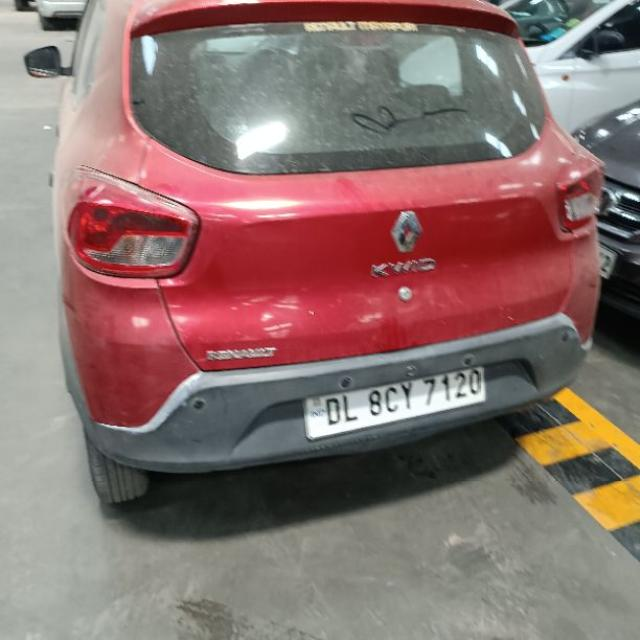license_plate: (301, 364, 487, 441)
